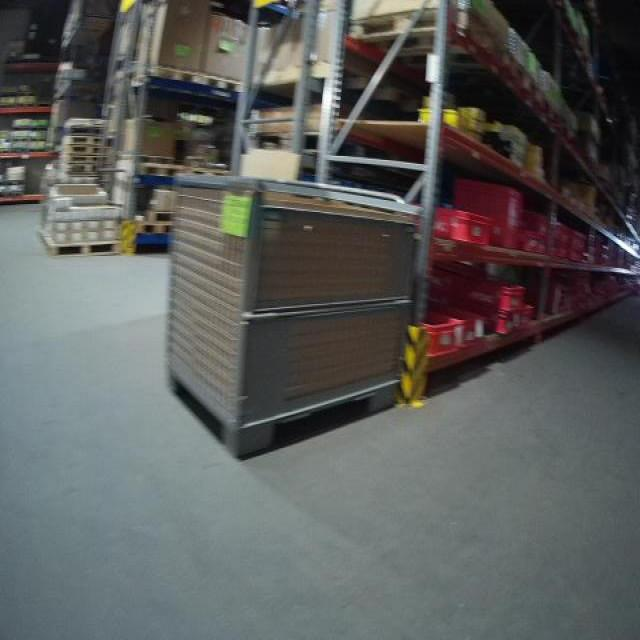pallet: (348, 3, 492, 84), (38, 233, 121, 259), (507, 55, 539, 112), (132, 67, 200, 91), (139, 159, 186, 183), (202, 70, 243, 94), (190, 164, 228, 180), (136, 222, 177, 235), (60, 142, 100, 153), (60, 153, 100, 163), (62, 132, 100, 142), (62, 163, 100, 170), (30, 136, 46, 142), (12, 138, 30, 142), (17, 92, 34, 96)
small_load_carrier: (462, 175, 525, 224), (431, 298, 492, 348), (411, 305, 460, 364), (423, 206, 491, 247), (463, 275, 530, 310), (470, 305, 522, 344), (496, 217, 524, 261), (524, 206, 548, 238), (516, 233, 540, 256), (536, 234, 553, 257), (553, 219, 567, 238), (555, 285, 570, 300), (570, 229, 583, 245), (570, 247, 584, 260)
stillage: (150, 163, 424, 462)
